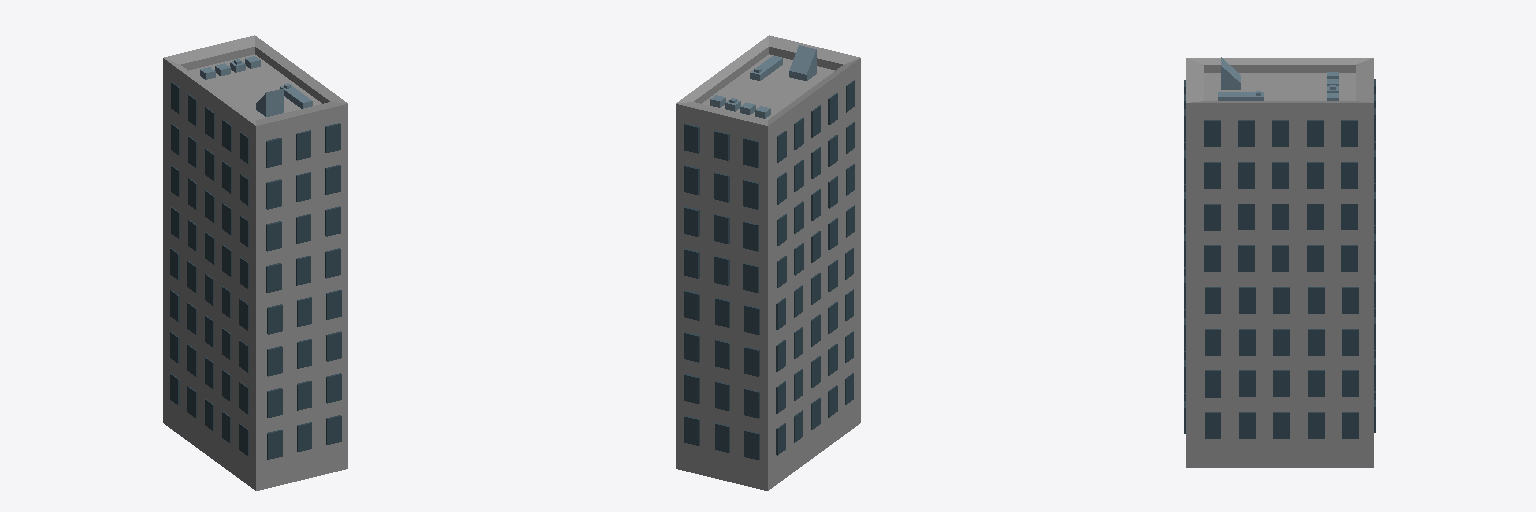
File: building_tall.obj
The picture shows the model from 3 angles: view 1: azimuth 30°, elevation 25°; view 2: azimuth 150°, elevation 25°; view 3: azimuth 270°, elevation 25°; orthographic projection.
Visible parts, largest first — view 1: model; view 2: model; view 3: model.
Part boxes in pixels (x1,y1,x2,y2): model: (163, 35, 347, 490); model: (676, 35, 860, 490); model: (1184, 57, 1375, 467).
Size of the model in its own units: 0.2007 by 0.7618 by 0.3508.